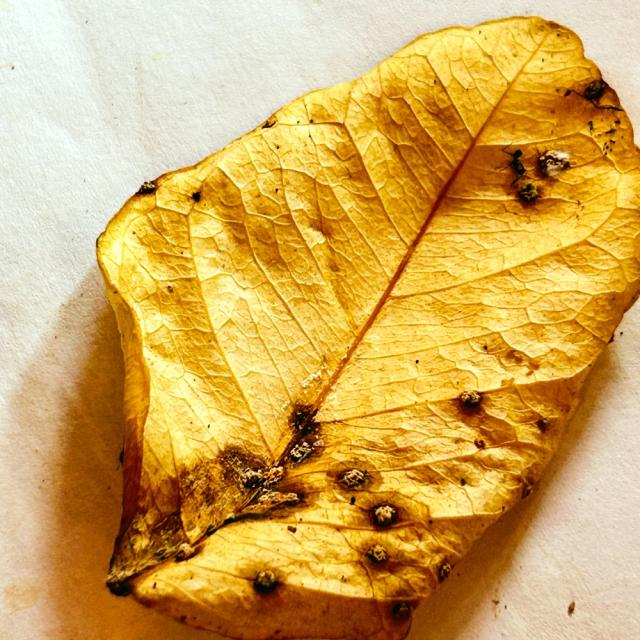DryLeaf_Lemon: (97, 17, 639, 639)
